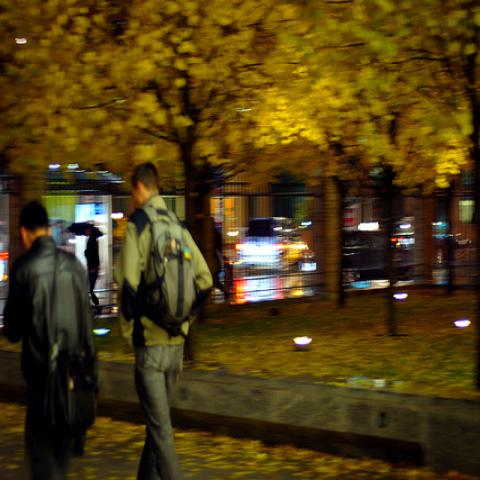car: (234, 210, 312, 271), (340, 225, 412, 280)
